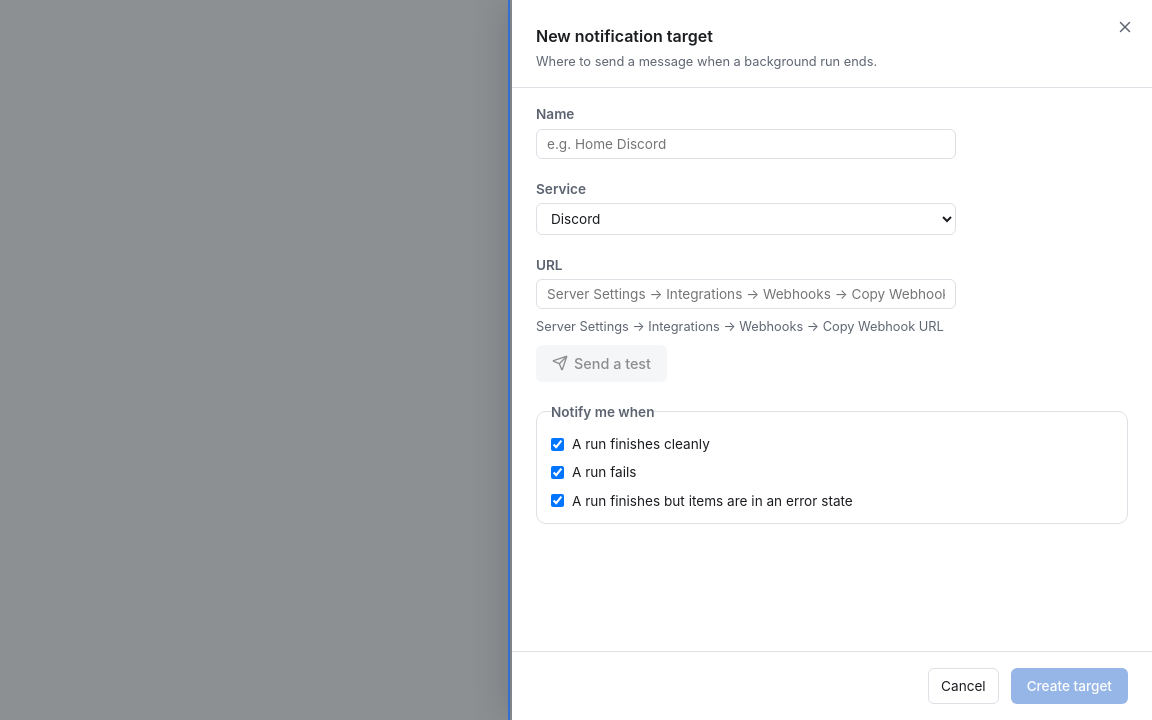
Test: NotificationTargetModal test button › drops a stale answer when the fields it was about change
Type "https://discord.com/api/webhooks/1/abc" into the field labelled "URL" at [746, 294], box top-left (536, 279), bottom-right (956, 309)
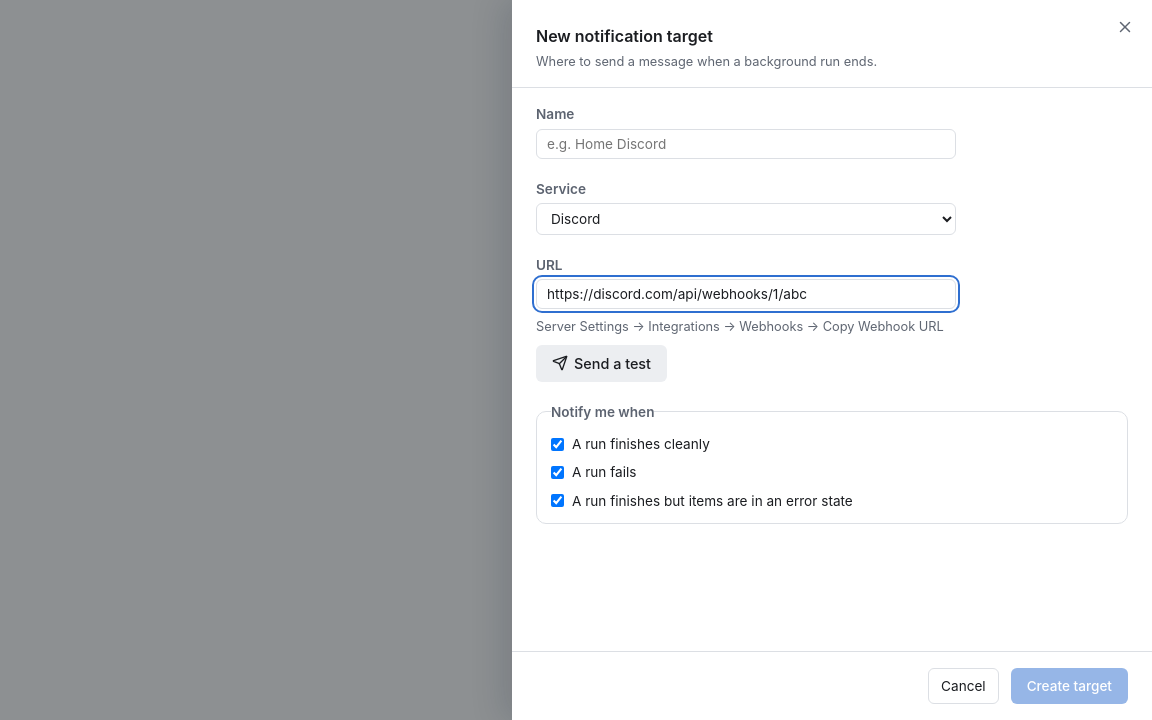
Click the button "Send a test" at [602, 363], box top-left (536, 344), bottom-right (667, 382)
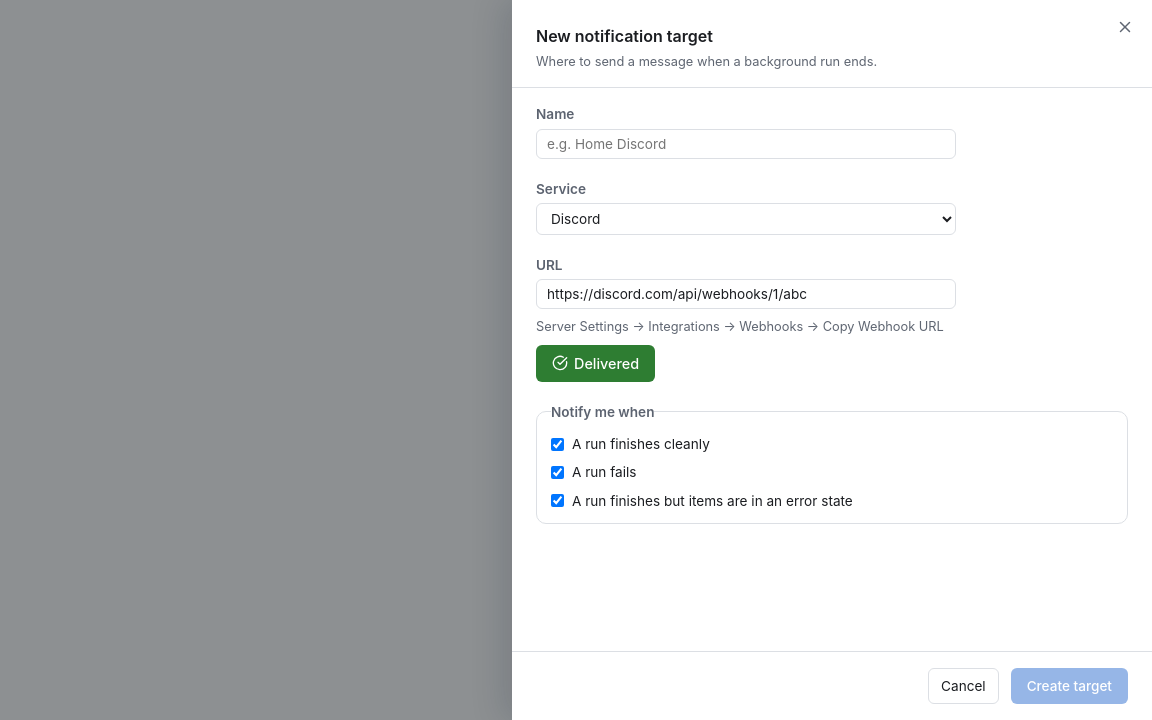
Expected: the button "Delivered" is shown, top-left (536, 344), bottom-right (655, 382)
Type "-changed" into the field labelled "URL" at [746, 294], box top-left (536, 279), bottom-right (956, 309)
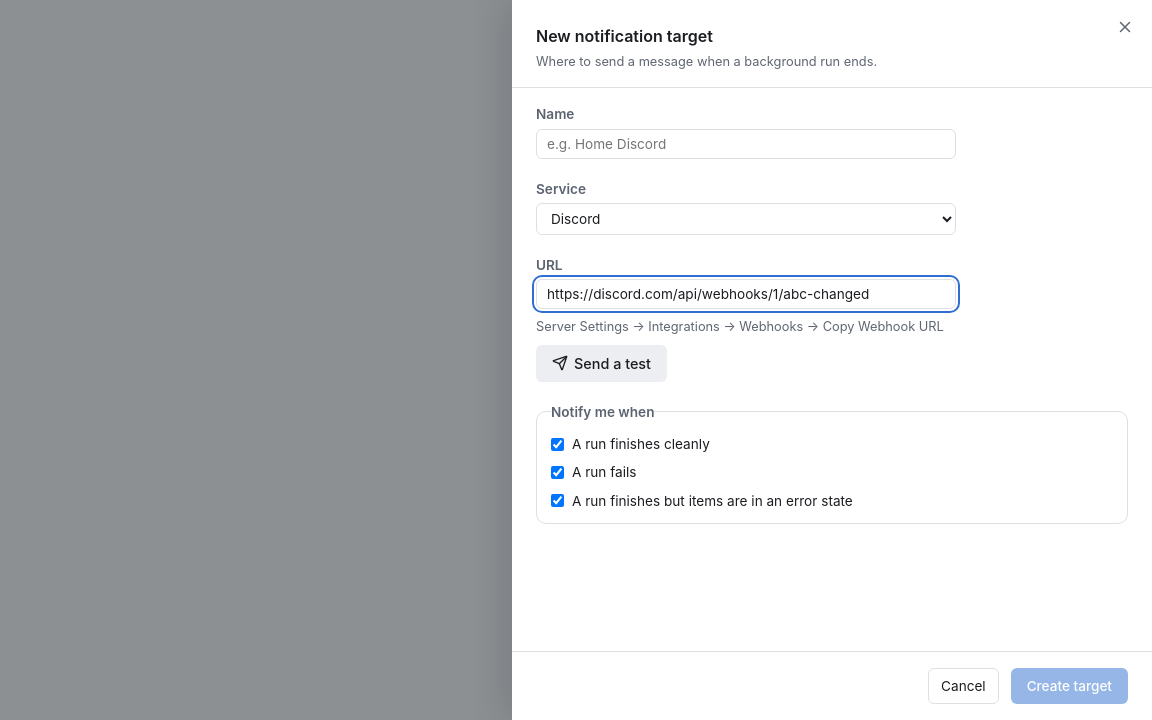
Expected: the button "Send a test" is shown, top-left (536, 344), bottom-right (667, 382)
